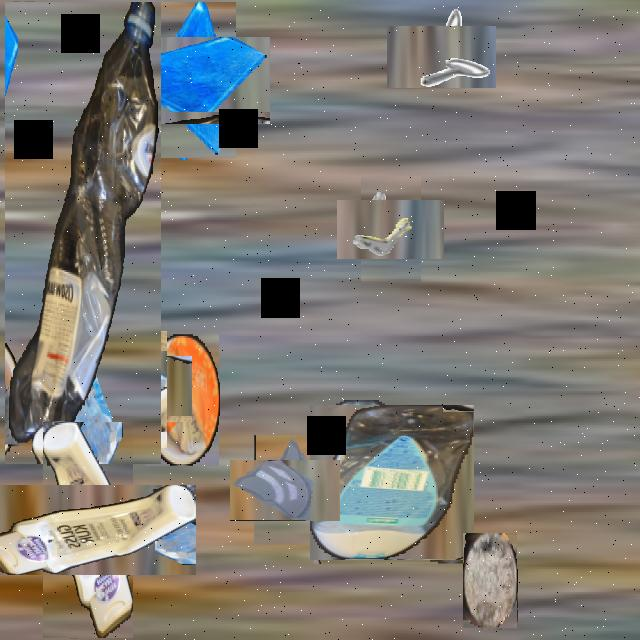glass: (131, 19, 253, 141), (37, 334, 151, 448), (88, 344, 180, 435), (242, 448, 328, 534)
metal: (398, 14, 484, 100), (349, 188, 433, 271)
plastic: (5, 2, 161, 464), (312, 402, 472, 562), (12, 453, 165, 607), (145, 334, 219, 466)
wood: (463, 534, 517, 630)
